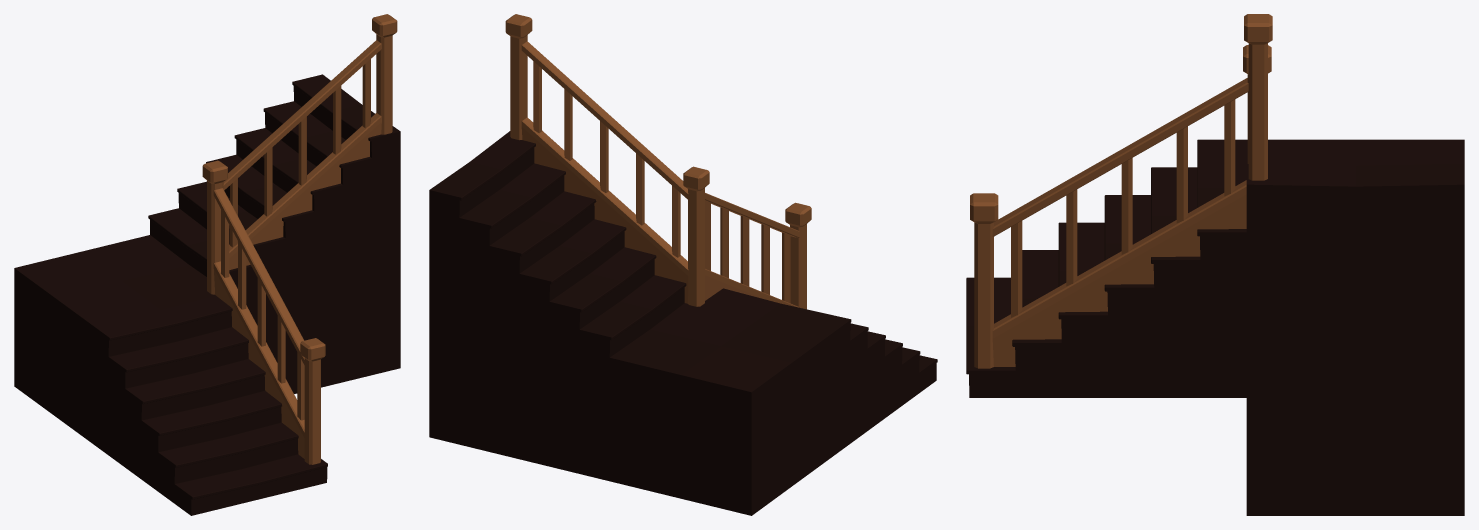
The model's file is ww_corner_staircase_b.glb.
3 views of the same model, side by side, from view 1: azimuth 30°, elevation 25°; view 2: azimuth 150°, elevation 25°; view 3: azimuth 270°, elevation 25° (orthographic). The views are drawn at different scales.
Parts seen in each view (by area): view 1: Corner_Staircase_B; view 2: Corner_Staircase_B; view 3: Corner_Staircase_B.
Boxes of the visible parts, x1,y1,x2,y2 form: Corner_Staircase_B: [14, 14, 400, 515]; Corner_Staircase_B: [429, 14, 937, 515]; Corner_Staircase_B: [966, 14, 1464, 515].
Bounding box in the file's own units: 4.8 × 5.2 × 4.8.
